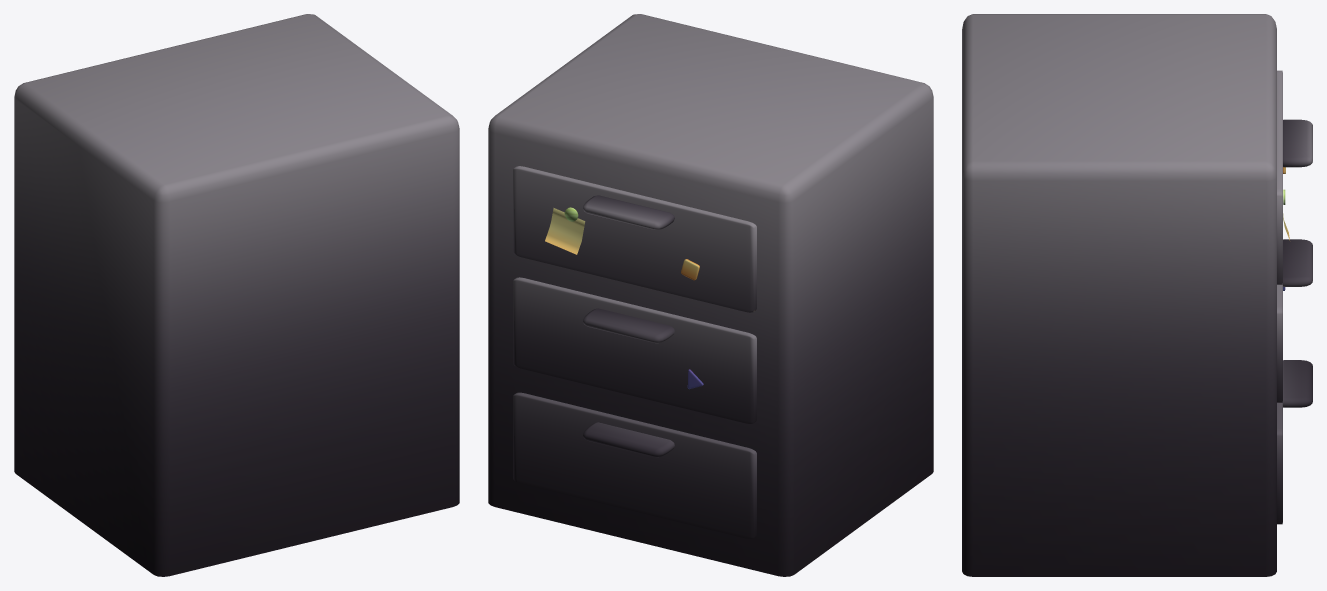
Rendered from mesh_cabinet_w_magnets_002.fbx.
The picture shows the model from 3 angles, left to right: view 1: azimuth 30°, elevation 25°; view 2: azimuth 150°, elevation 25°; view 3: azimuth 270°, elevation 25°; orthographic projection. The views are drawn at different scales.
Parts seen in each view (by area): view 1: cabinet_w_magnets; view 2: cabinet_w_magnets; view 3: cabinet_w_magnets.
Part boxes in pixels (bbox=[...]): cabinet_w_magnets: bbox=[14, 14, 459, 576]; cabinet_w_magnets: bbox=[488, 14, 933, 576]; cabinet_w_magnets: bbox=[962, 14, 1312, 576].
Bounding box in the file's own units: 114 × 138 × 107.
